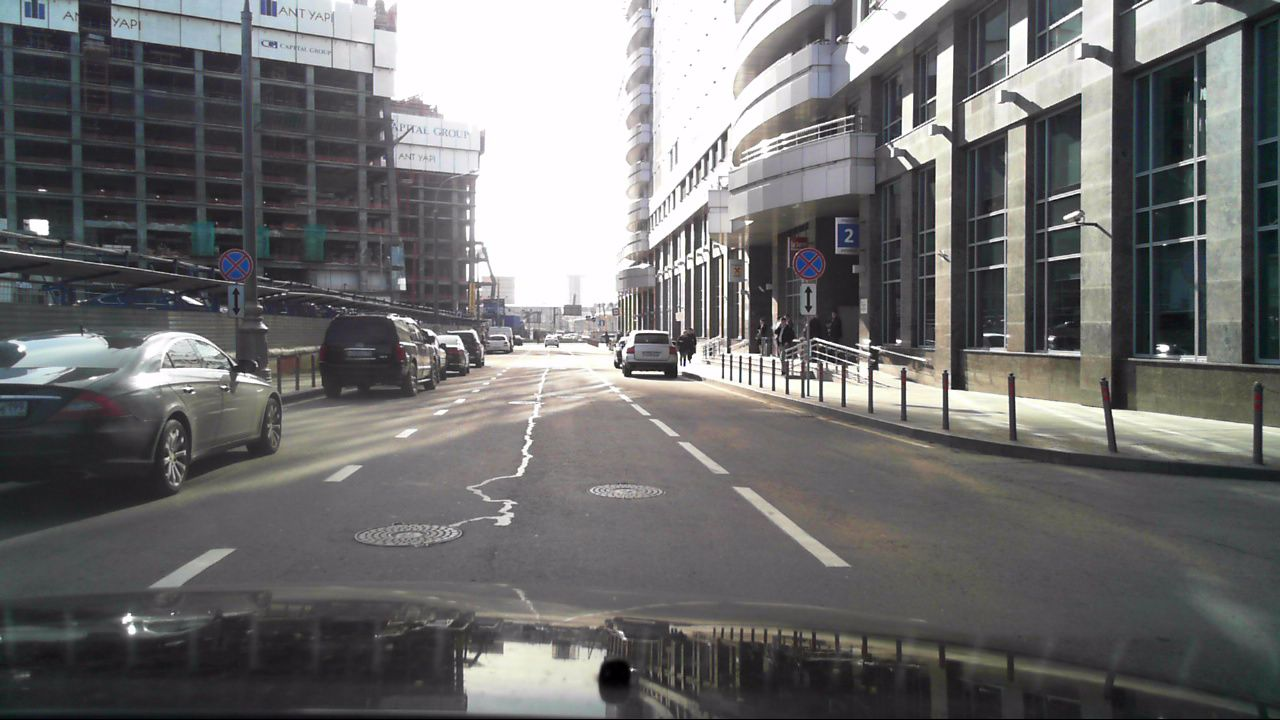No Parking: (789, 246, 828, 282)
